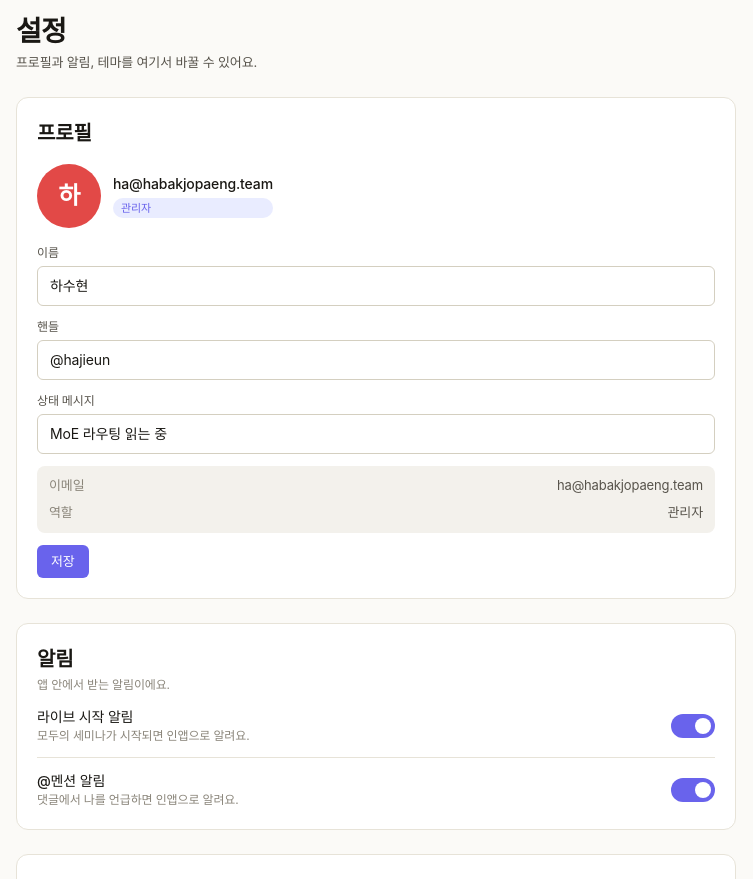
Scenario: SettingsView › 저장하면 PATCH /api/me로 보내고(세션 기반) 성공 토스트를 보인다
This screenshot has width=753, height=879.
Replace the text in the field labelled "이름" with "하수현2". click: x=376, y=286
box: 37,266 -> 715,306
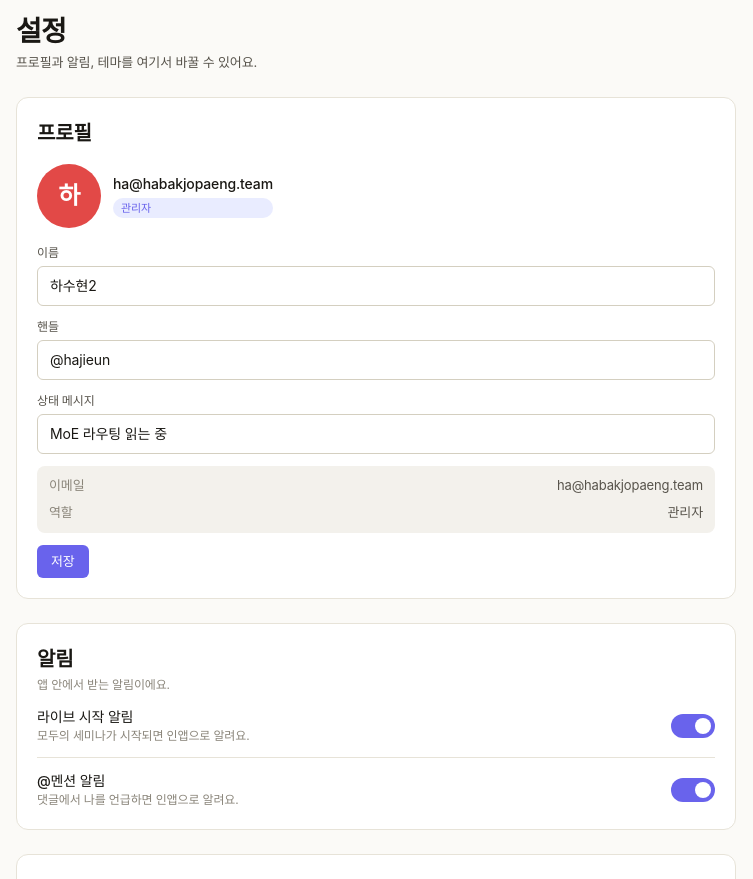
Click the button "저장". click: x=63, y=561
box: 37,544 -> 89,578
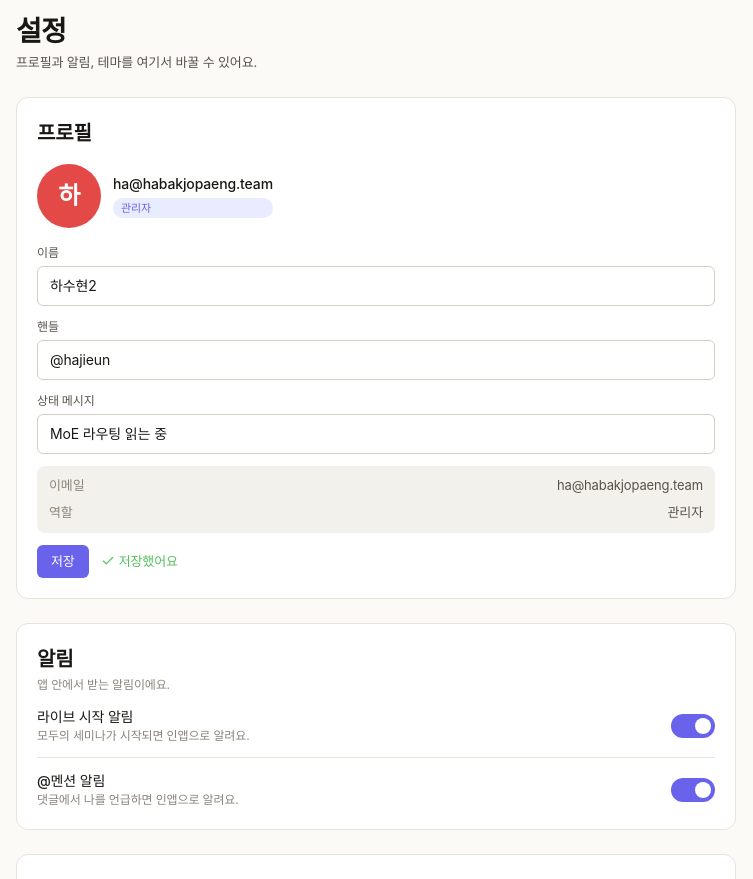
Check: the text "저장했어요" is shown, box 101,552 -> 178,571
